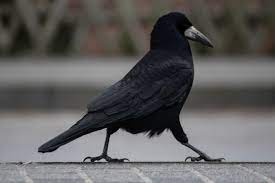Walking: (23, 9, 234, 169)
